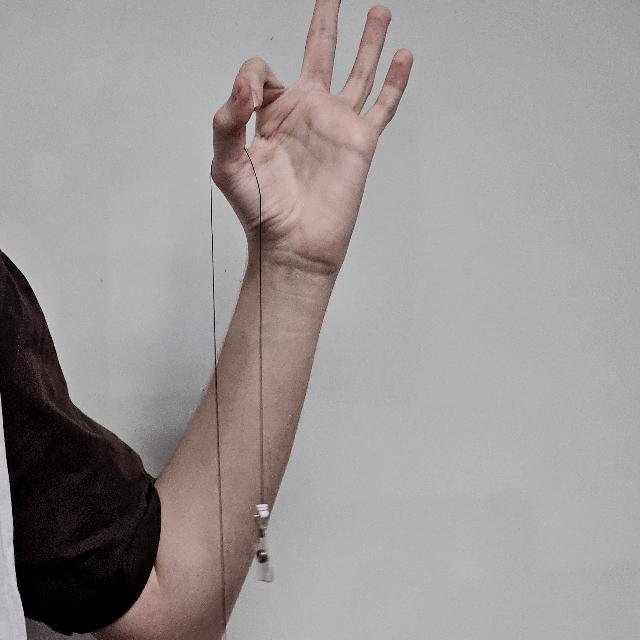Bolinha: (212, 1, 414, 278)
